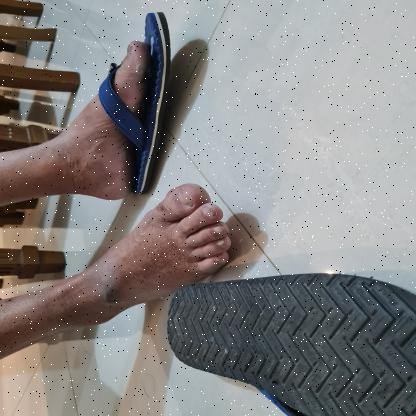leg: (0, 179, 242, 361), (0, 2, 178, 214)
